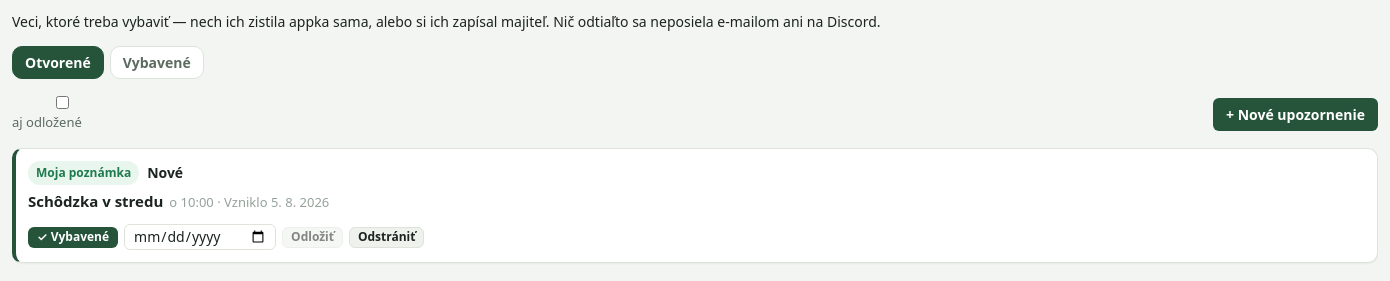
it: issue 327: Odstrániť zavolá deleteUpozornenie AJ pre kartu zo zdroja 'appka'
Expected: the element with test id "upozornenie-appka-1" is shown, [12,148,1378,263]
What coordinates should you click on to do the following:
click the button with test id "upozornenie-delete-appka-1"
I would click on:
 (387, 237)
Its box is [349,227,424,248].
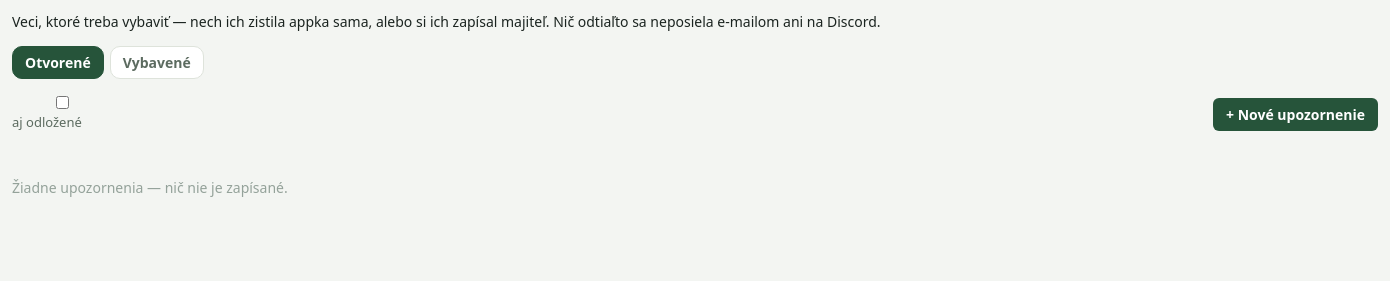
Expected: the text "Žiadne upozornenia — nič nie je zapísané." is shown, [12,178,288,197]
